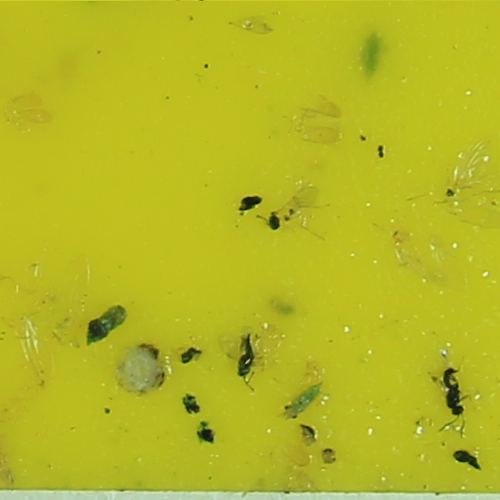Glycaspis: (282, 381, 325, 419)
